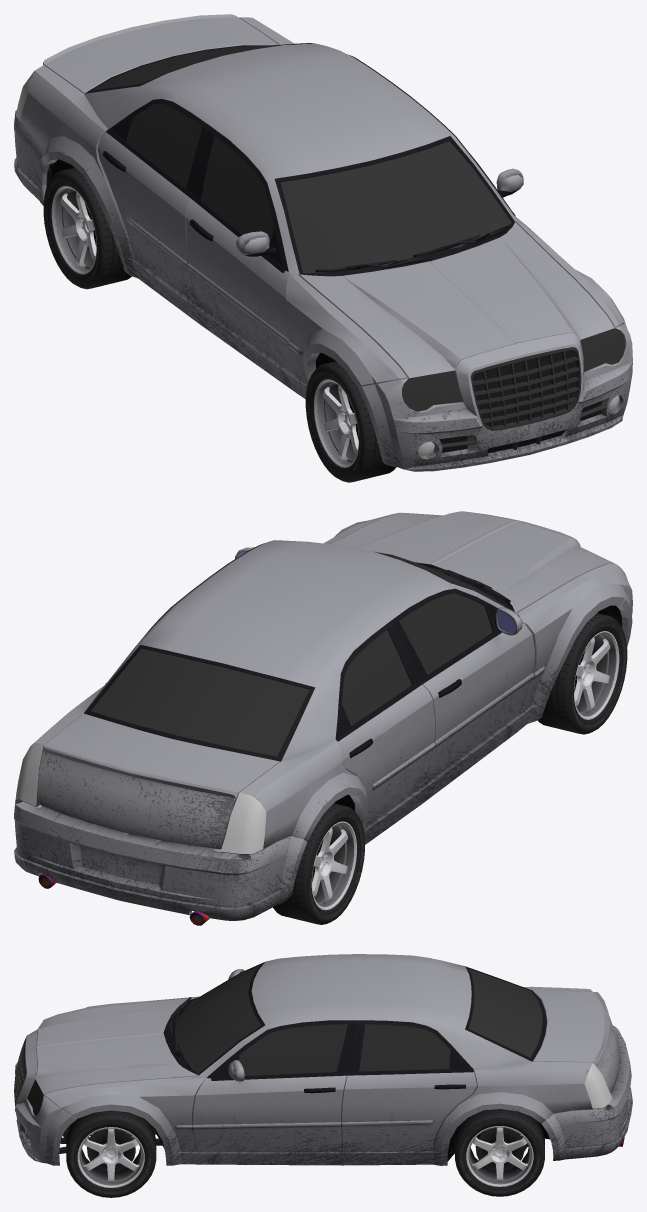
3 views of the same model, one above another, from view 1: azimuth 30°, elevation 25°; view 2: azimuth 150°, elevation 25°; view 3: azimuth 270°, elevation 25° (orthographic). The views are drawn at different scales.
Parts seen in each view (by area): view 1: C300_Body, C300_Hood_Front, C300_Bamper_Front, C300_Win_Front, C300_Door_Front_Right, C300_Door_Back_Right, C300_Hood_Back, C300_Wheel_Right_Back, C300_Wheel_Right_Front, C300_Win_Door_Right_Front, C300_Win_Door_Right_Back, C300_Bamper_Back (+5 smaller); view 2: C300_Body, C300_Hood_Back, C300_Bamper_Back, C300_Win_Back, C300_Hood_Front, C300_Door_Front_Right, C300_Door_Back_Right, C300_Wheel_Right_Front, C300_Wheel_Right_Back, C300_Win_Door_Right_Front, C300_Win_Door_Right_Back, C300_Light_Back_Right (+3 smaller); view 3: C300_Body, C300_Door_Front_Left, C300_Hood_Front, C300_Door_Back_Left, C300_Wheel_Left_Font, C300_Wheel_Left_Back, C300_Hood_Back, C300_Win_Front, C300_Bamper_Back, C300_Win_Door_Left_Front, C300_Win_Back, C300_Bamper_Front (+5 smaller).
Part boxes in pixels (x1,y1,x2,y2): C300_Body: (20,17,624,398); C300_Hood_Front: (299,222,614,378); C300_Bamper_Front: (358,322,632,471); C300_Win_Front: (280,141,511,273); C300_Door_Front_Right: (186,127,295,375); C300_Door_Back_Right: (97,99,210,303); C300_Hood_Back: (43,14,278,93); C300_Wheel_Right_Back: (43,167,131,289); C300_Wheel_Right_Front: (305,361,396,482); C300_Win_Door_Right_Front: (201,136,274,243); C300_Win_Door_Right_Back: (126,103,202,187); C300_Bamper_Back: (14,110,49,205); C300_Body: (16,512,624,854); C300_Hood_Back: (38,714,279,848); C300_Bamper_Back: (14,797,306,920); C300_Win_Back: (91,648,309,756); C300_Hood_Front: (331,511,614,613); C300_Door_Front_Right: (391,588,534,784); C300_Door_Back_Right: (335,621,435,826); C300_Wheel_Right_Front: (537,613,627,734); C300_Wheel_Right_Back: (273,803,364,924); C300_Win_Door_Right_Front: (399,593,492,674); C300_Win_Door_Right_Back: (342,630,411,725); C300_Light_Back_Right: (220,792,266,853); C300_Body: (44,954,603,1165); C300_Door_Front_Left: (192,1020,356,1151); C300_Hood_Front: (33,997,198,1094); C300_Door_Back_Left: (341,1020,477,1151); C300_Wheel_Left_Font: (66,1110,156,1197); C300_Wheel_Left_Back: (455,1109,544,1196); C300_Hood_Back: (533,990,619,1093); C300_Win_Front: (175,965,261,1073); C300_Bamper_Back: (541,1025,632,1160); C300_Win_Door_Left_Front: (239,1024,347,1075); C300_Win_Back: (468,969,542,1057); C300_Bamper_Front: (14,1020,77,1165).
Size of the model in its own units: 69.03 by 53.67 by 176.
